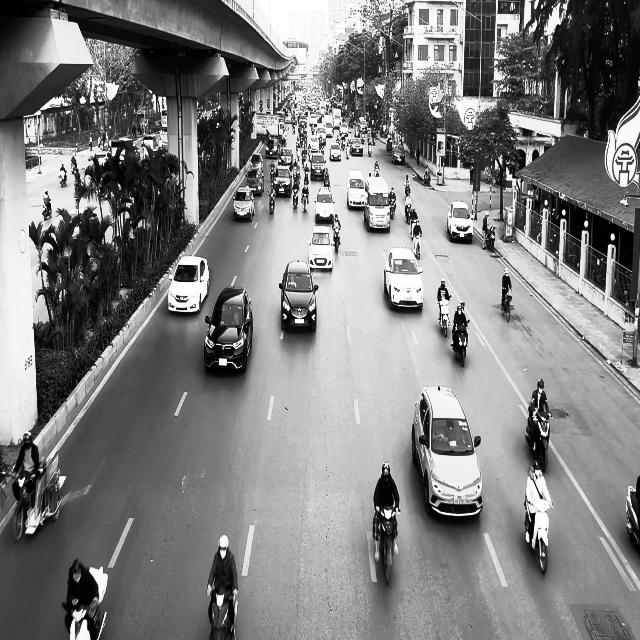car: (411, 384, 484, 518), (204, 286, 253, 374), (279, 259, 319, 332), (384, 247, 424, 311), (168, 255, 209, 314), (307, 225, 334, 271), (447, 200, 473, 242), (314, 185, 336, 223), (347, 169, 367, 210), (232, 186, 255, 221), (392, 145, 405, 164)
motorbike: (524, 492, 553, 575), (373, 506, 401, 584), (525, 404, 552, 472), (208, 587, 239, 639), (451, 319, 471, 367), (438, 294, 452, 336), (501, 291, 513, 322), (413, 231, 422, 260), (486, 225, 496, 251), (334, 225, 342, 253), (42, 202, 52, 220), (269, 188, 276, 213), (59, 170, 67, 187), (390, 197, 396, 219)
